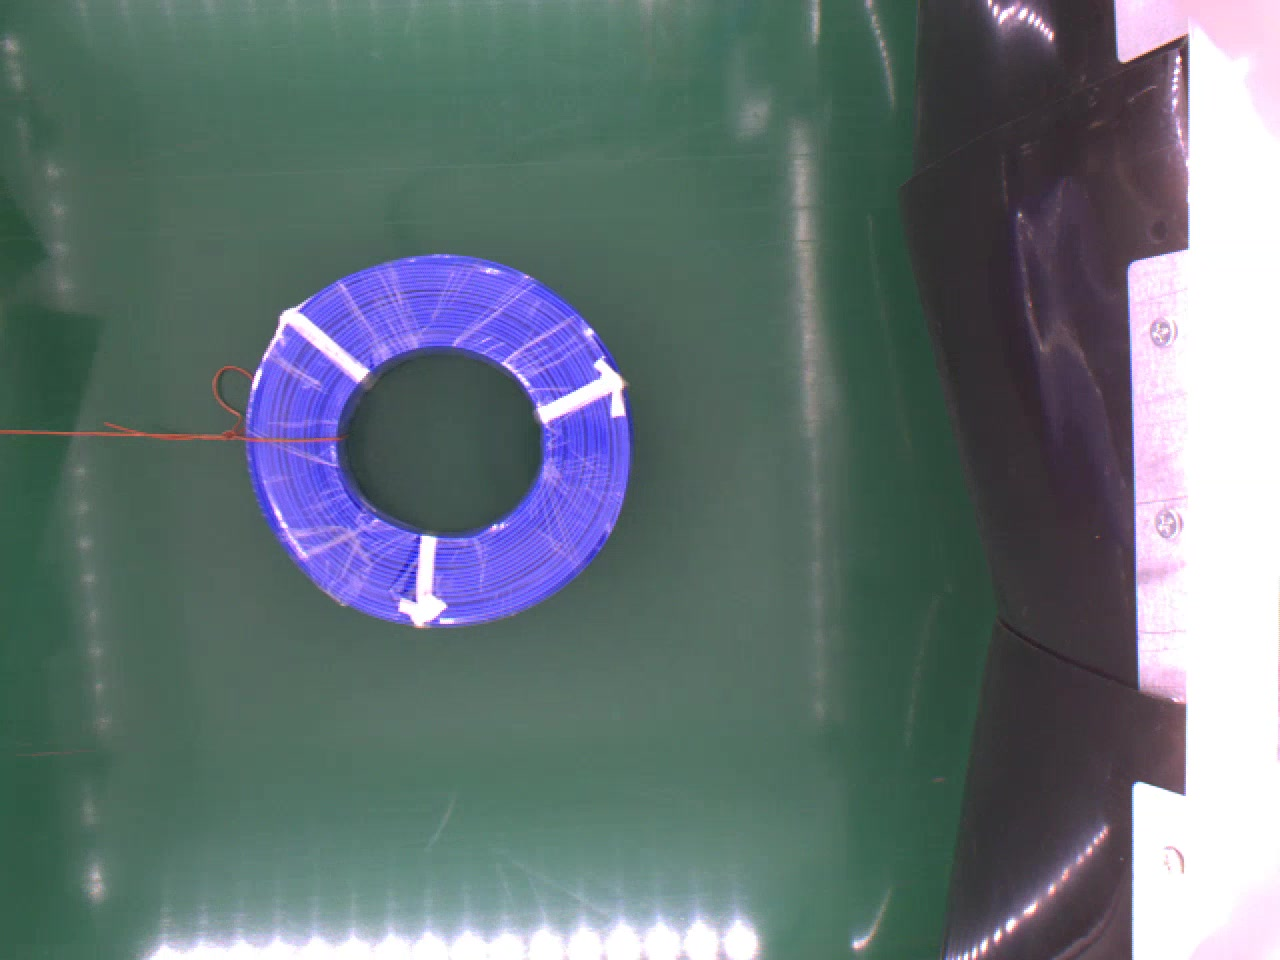blue: (244, 250, 635, 627)
